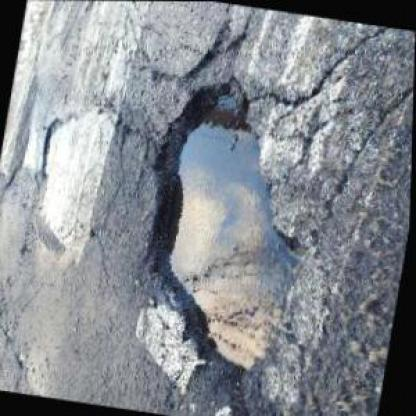pothole: (118, 69, 331, 378), (34, 112, 64, 179)
